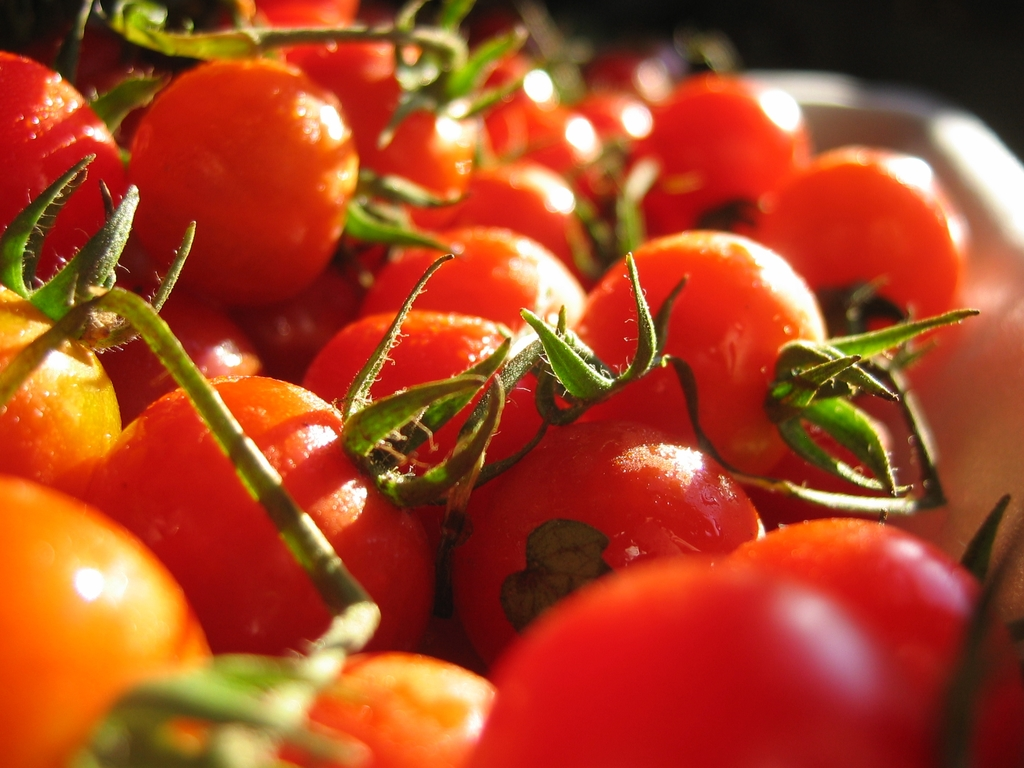Tomato: (0, 0, 1023, 767), (111, 35, 373, 296)
